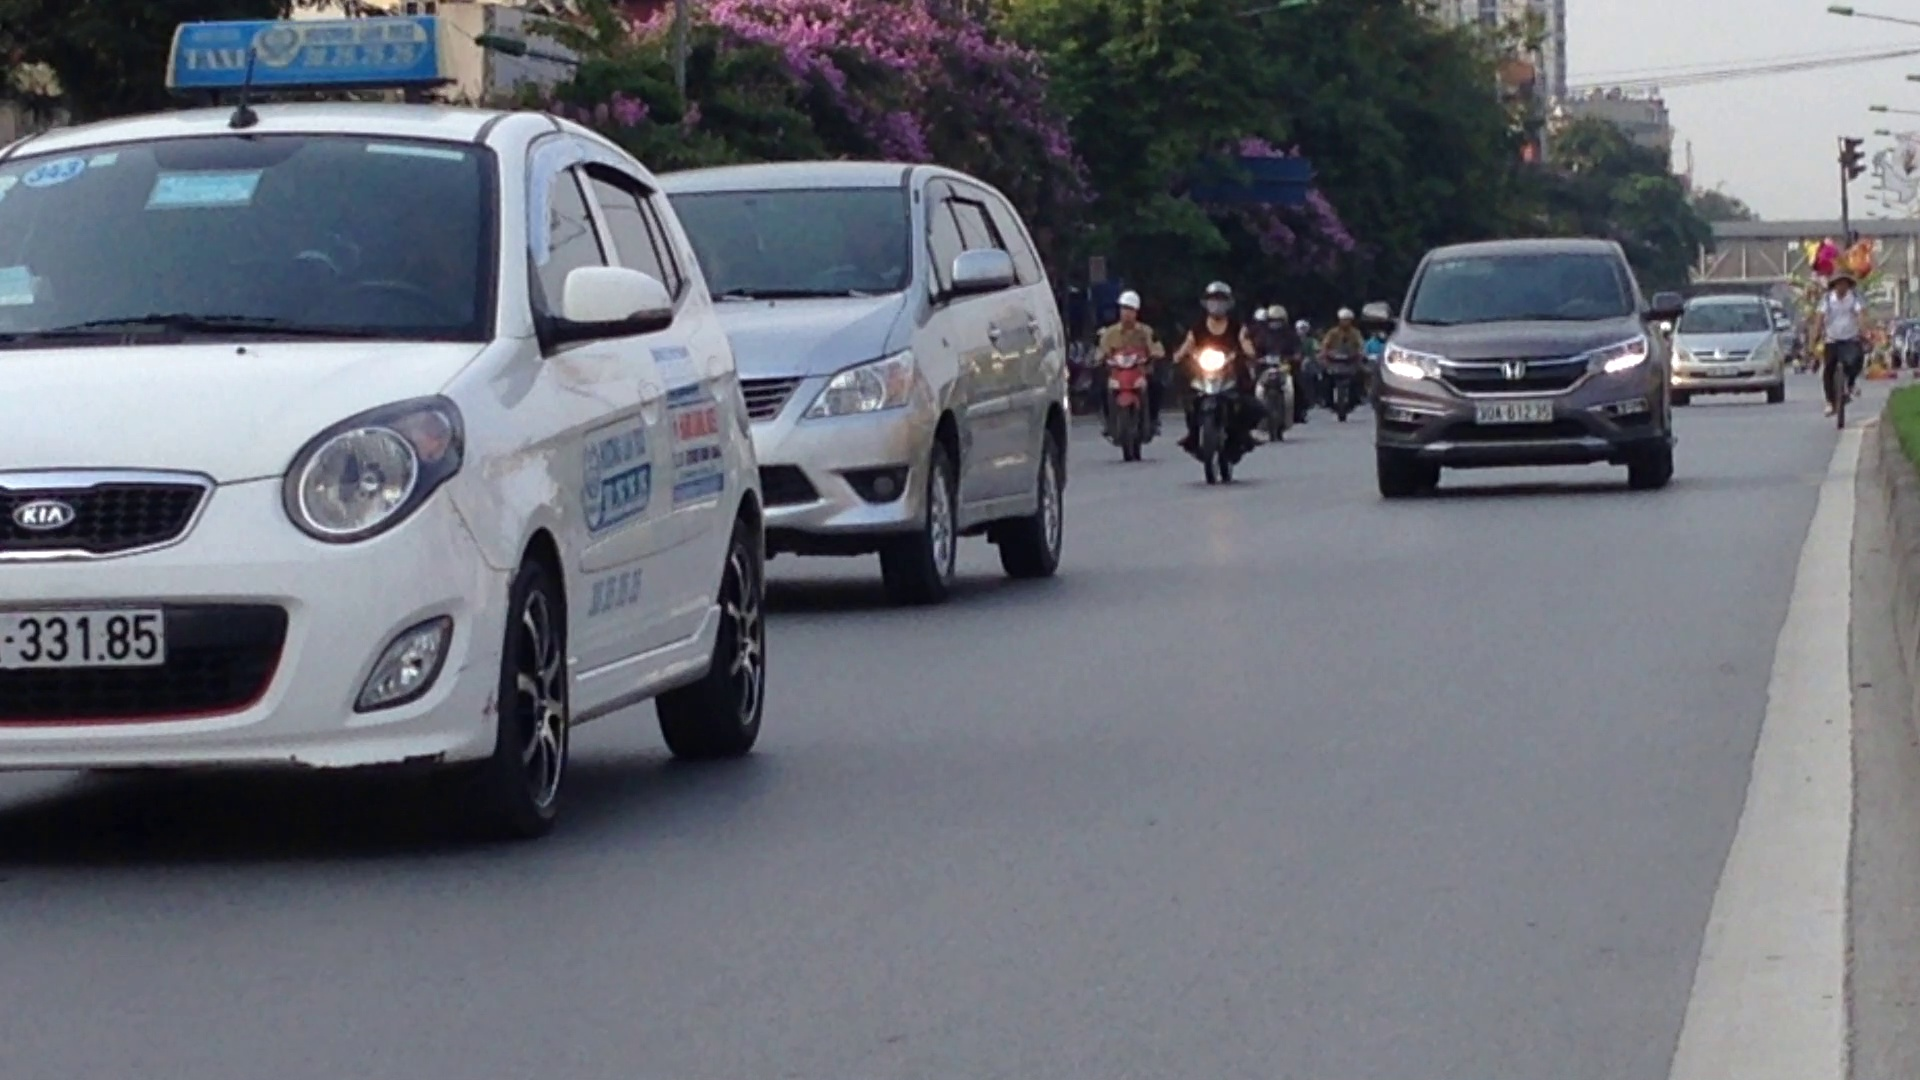person: (2, 606, 168, 669), (1473, 399, 1558, 428)
